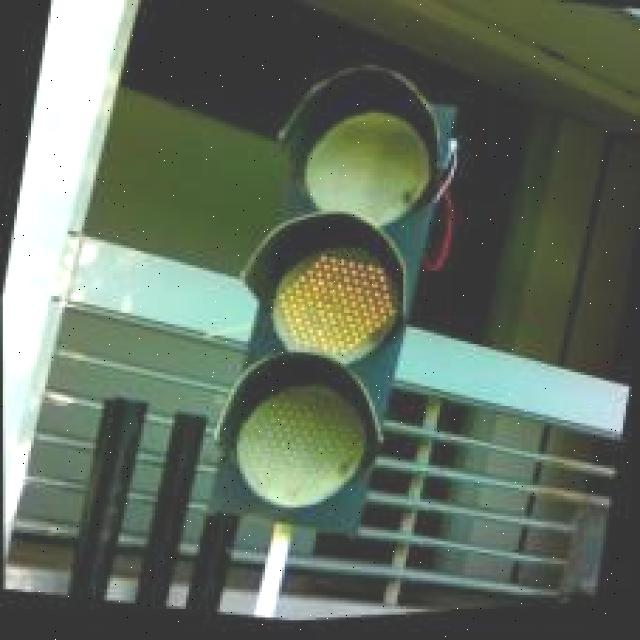yellow_light: (192, 48, 462, 550)
